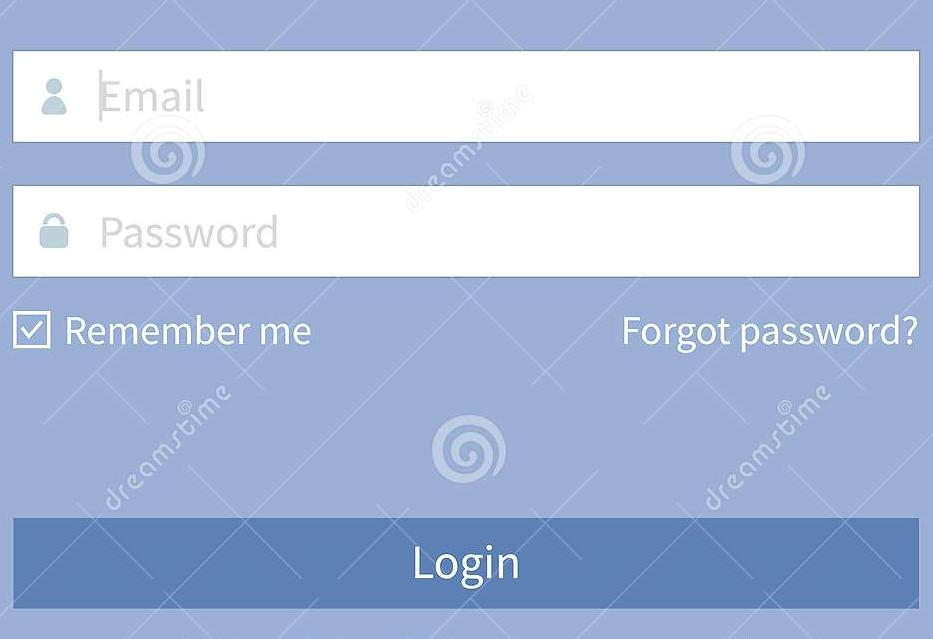button: (8, 515, 922, 615)
checkbox: (8, 305, 49, 354)
checkbox_with_label: (6, 301, 315, 358)
field: (8, 44, 922, 149), (7, 179, 929, 282)
